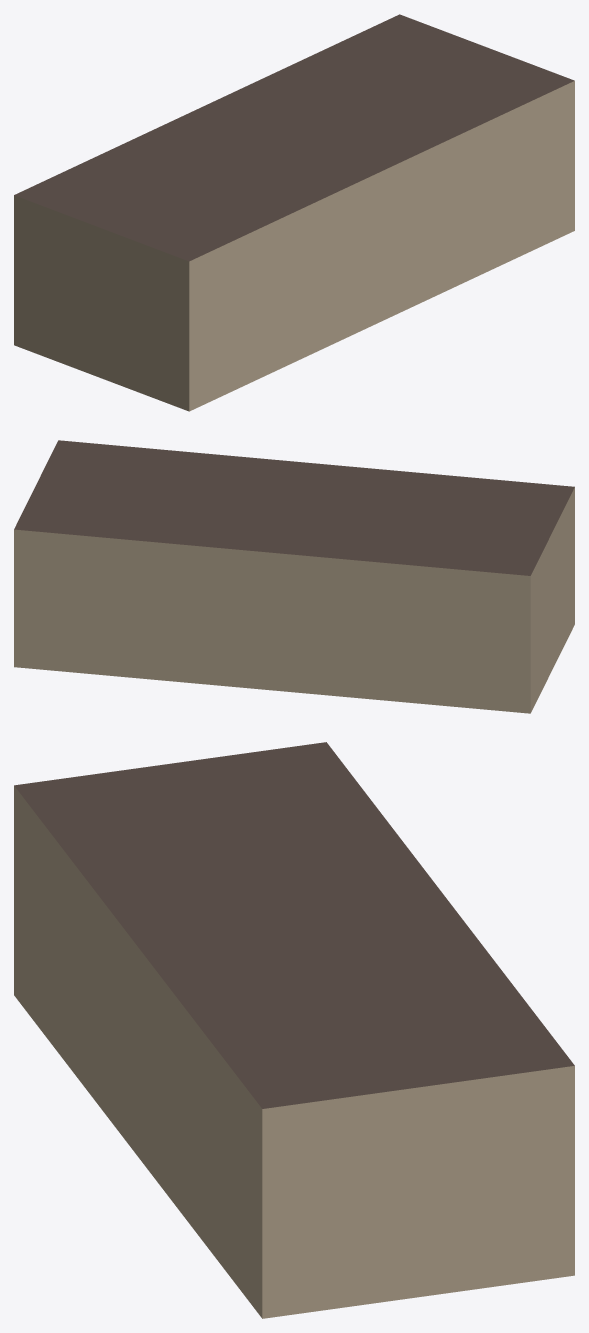
3 views of the same model, one above another, from view 1: azimuth 30°, elevation 25°; view 2: azimuth 150°, elevation 25°; view 3: azimuth 270°, elevation 25° (orthographic). The views are drawn at different scales.
Visible parts, largest first — view 1: HP-w859078922; view 2: HP-w859078922; view 3: HP-w859078922.
Part boxes in pixels (x1,y1,x2,y2): HP-w859078922: [14, 14, 574, 411]; HP-w859078922: [14, 440, 574, 713]; HP-w859078922: [14, 742, 574, 1318].
Bounding box in the file's own units: 33.76 × 9 × 21.81.
